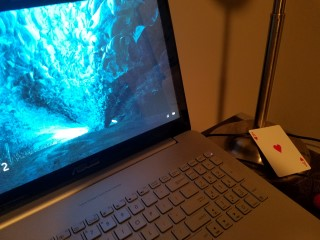AceOfHearts: (246, 124, 311, 177)
